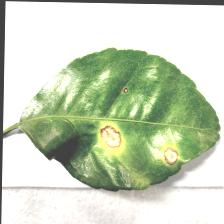canker: (92, 117, 184, 181)
